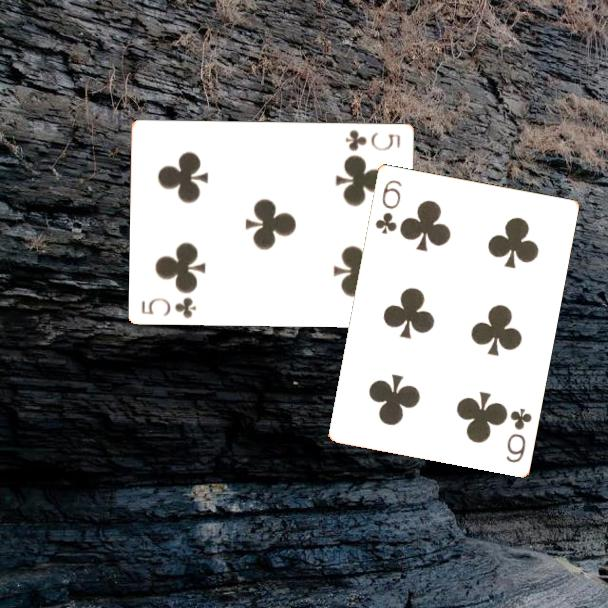c05: (342, 126, 403, 154), (139, 293, 199, 321)
c06: (502, 404, 534, 465), (372, 176, 404, 236)
